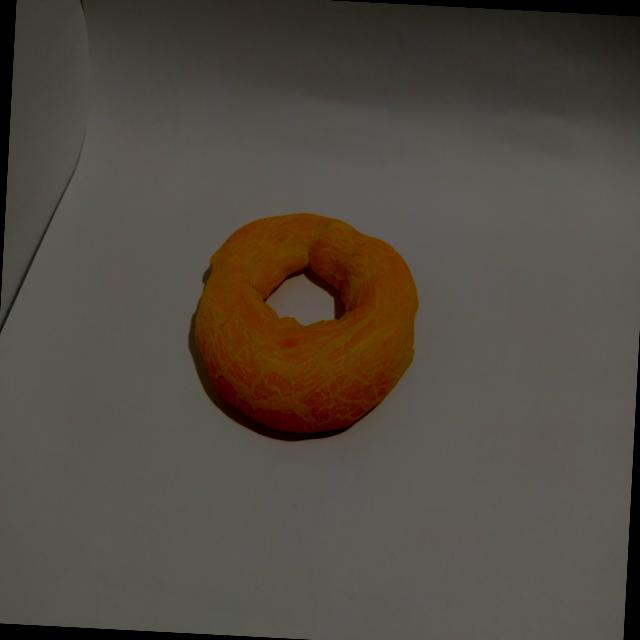Chipa: (171, 199, 434, 452)
